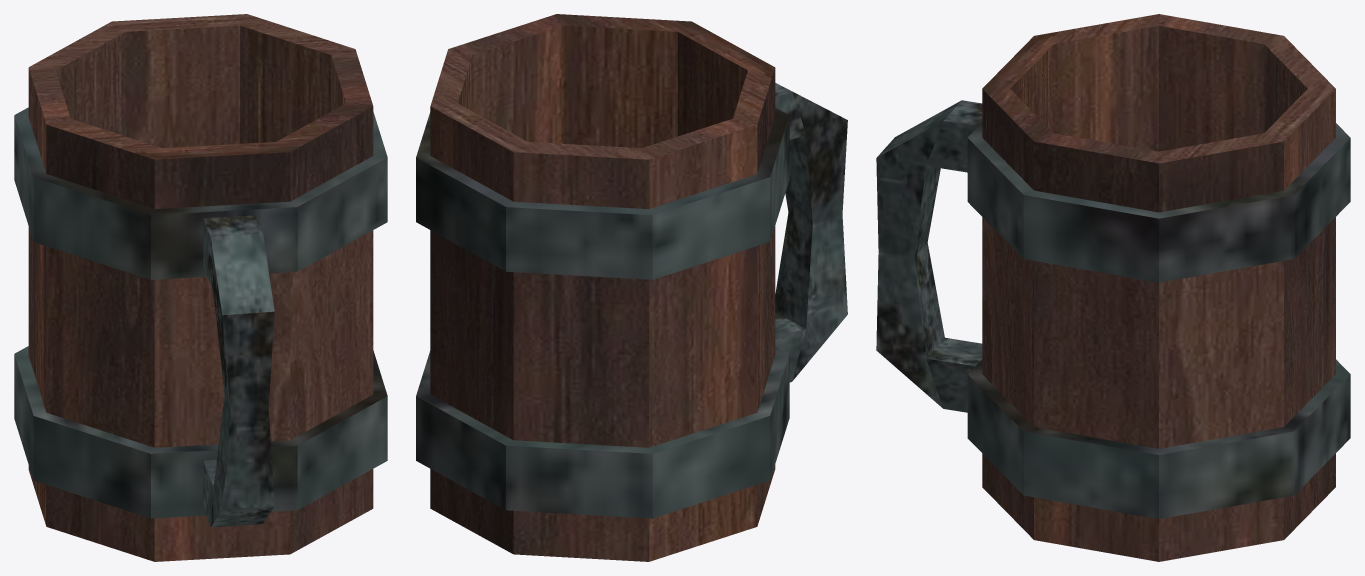
Rendered from TavernCup.fbx.
The picture shows the model from 3 angles, left to right: view 1: azimuth 30°, elevation 25°; view 2: azimuth 150°, elevation 25°; view 3: azimuth 270°, elevation 25°; orthographic projection.
Visible parts, largest first — view 1: Cube.001; view 2: Cube.001; view 3: Cube.001.
Part boxes in pixels (x1,y1,x2,y2): Cube.001: (14, 14, 387, 561); Cube.001: (416, 14, 847, 561); Cube.001: (876, 14, 1350, 561).
Bounding box in the file's own units: 22.35 × 25.66 × 27.67.
